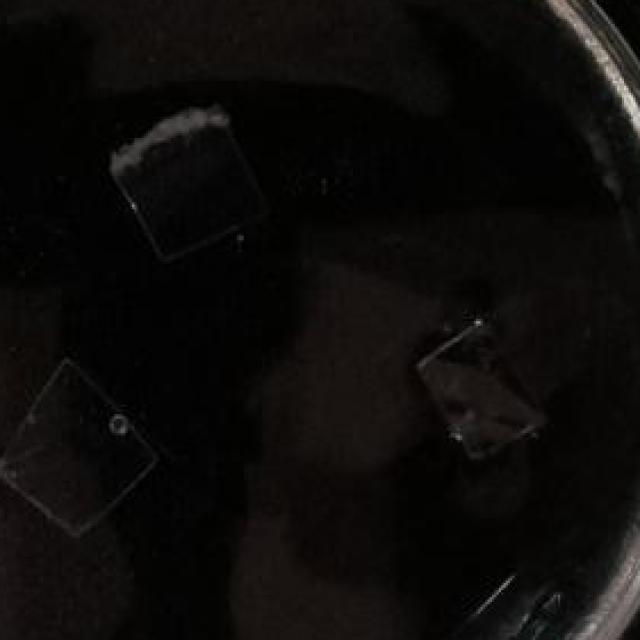Microplastic: (0, 352, 164, 545), (98, 100, 273, 259), (408, 290, 551, 464)
